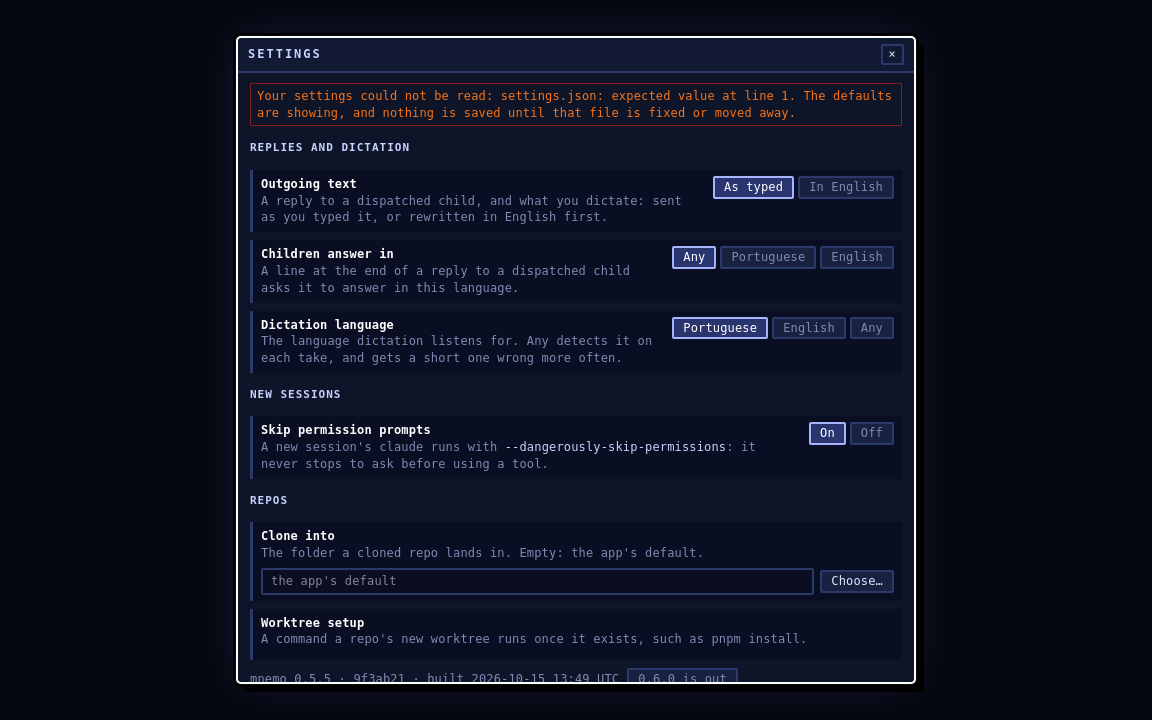
Test: a file that cannot be read is said, and nothing is written over it
The image size is (1152, 720).
Check: the message with class "nx-set-banner" shows "settings.json: expected value at line 1", box 501,89 -> 789,103
Click the button "In English". click: (846, 187)
box: 798,176 -> 894,199
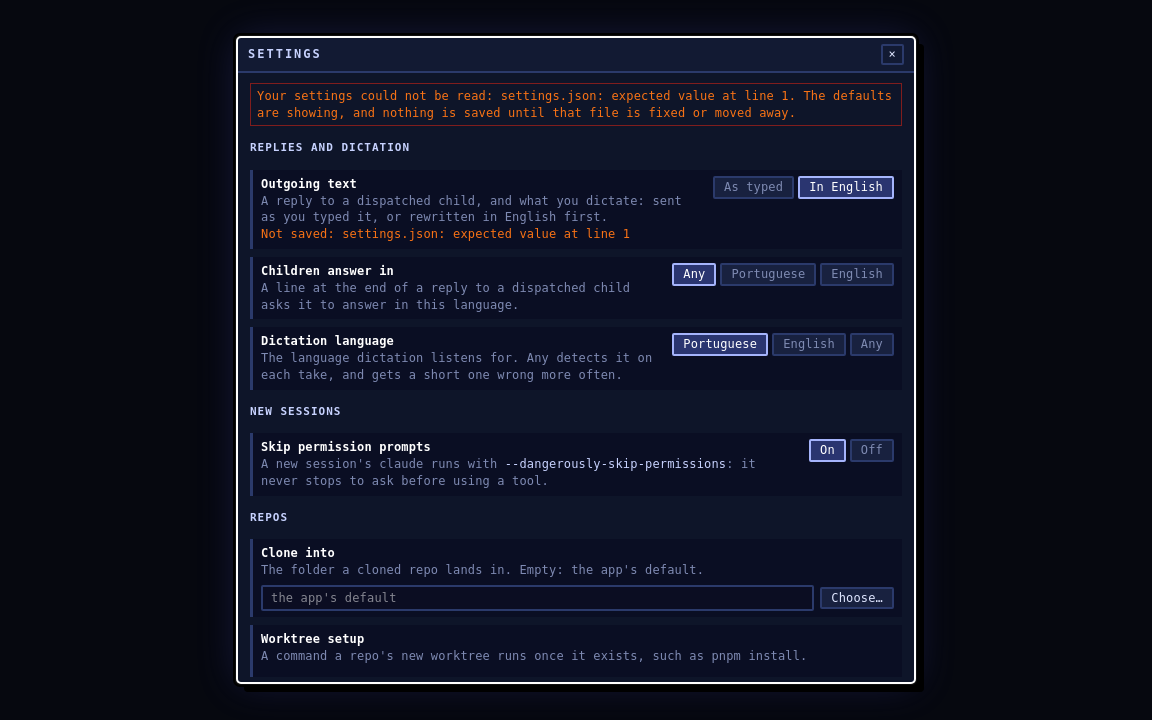
Check: the message "Not saved: settings.json: expected value at line 1" is shown, box 261,227 -> 630,241
